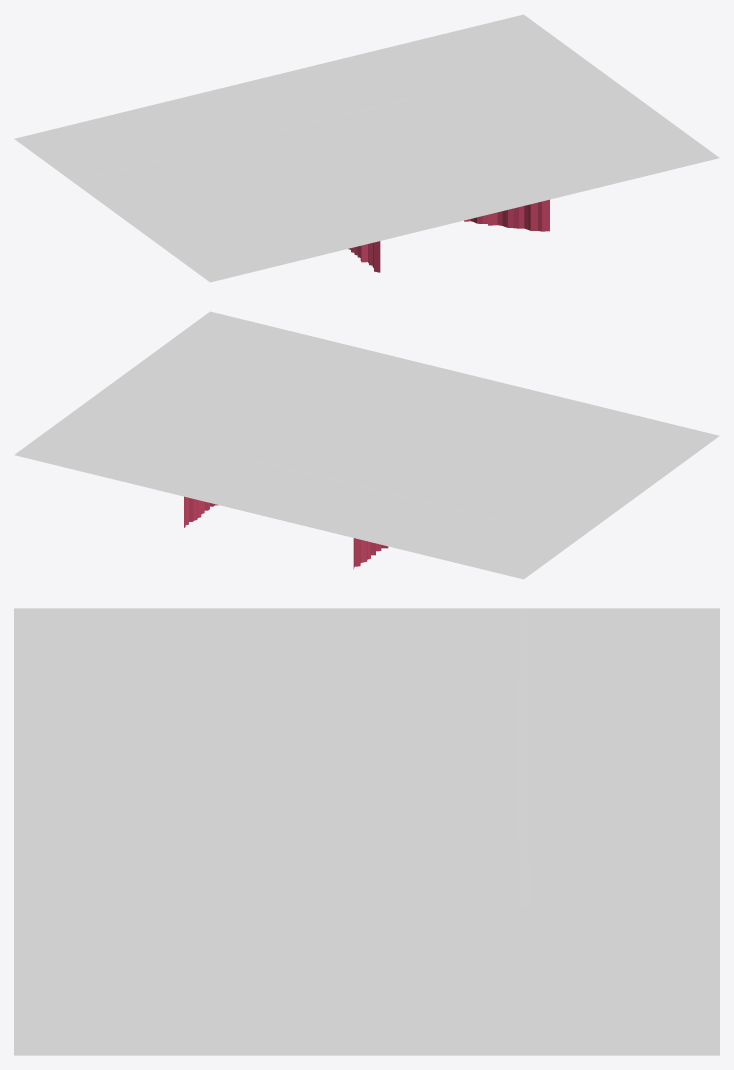
The model's file is ice7.fbx.
The picture shows the model from 3 angles, top to bottom: view 1: azimuth 30°, elevation 25°; view 2: azimuth 150°, elevation 25°; view 3: azimuth 270°, elevation 25°; orthographic projection. The views are drawn at different scales.
Parts seen in each view (by area): view 1: Main.003, Left.002, Main; view 2: Main.003, Left.002, Main; view 3: Left.002, Main.003, Main.
Boxes of the visible parts, x1,y1,x2,y2 form: Main.003: (354,14,719,231); Left.002: (14,97,380,282); Main: (184,56,549,272); Main.003: (14,311,413,527); Left.002: (354,394,719,579); Main: (184,353,550,569); Left.002: (14,608,719,829); Main.003: (14,835,719,1055); Main: (14,754,719,912).
Size of the model in its own units: 8400 by 501 by 5600.
